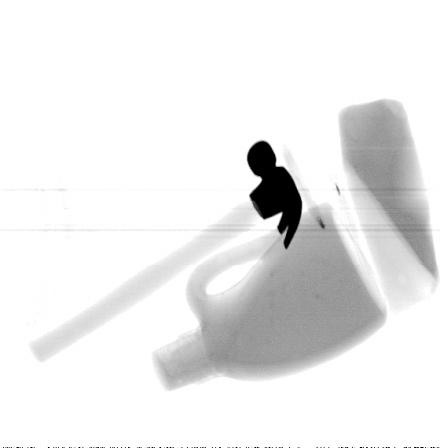Hammer: (29, 140, 303, 364)
